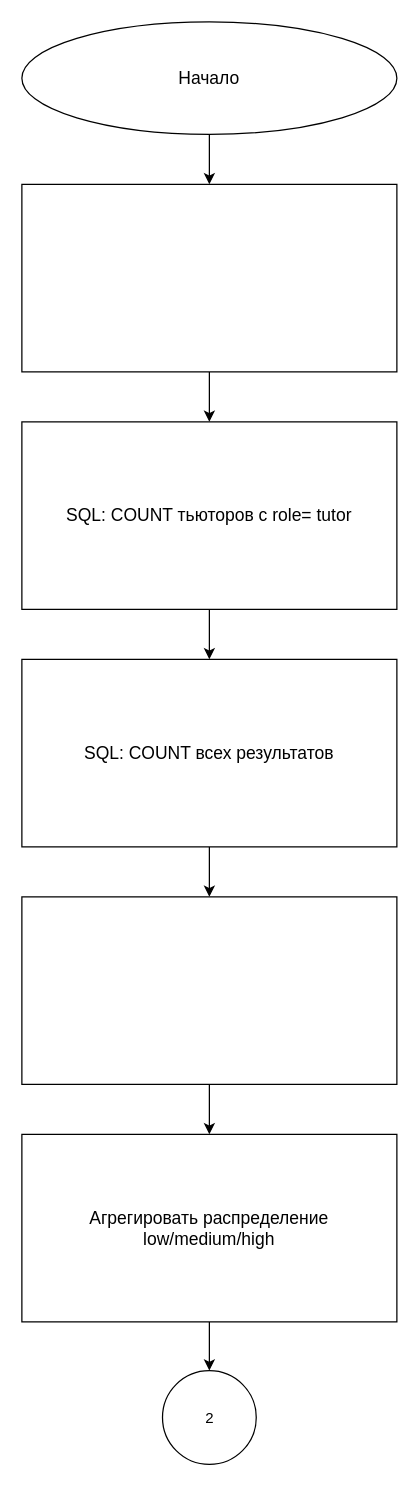
Image size: 419x1486. Some labels were removed from this diagram. Each missing label, with the centre of its shape:
"SQL: последний результат для каждого тьютора (подзапрос)" goes at pixel 209 990.
"Проверка сессии и роли hr" goes at pixel 209 277.
